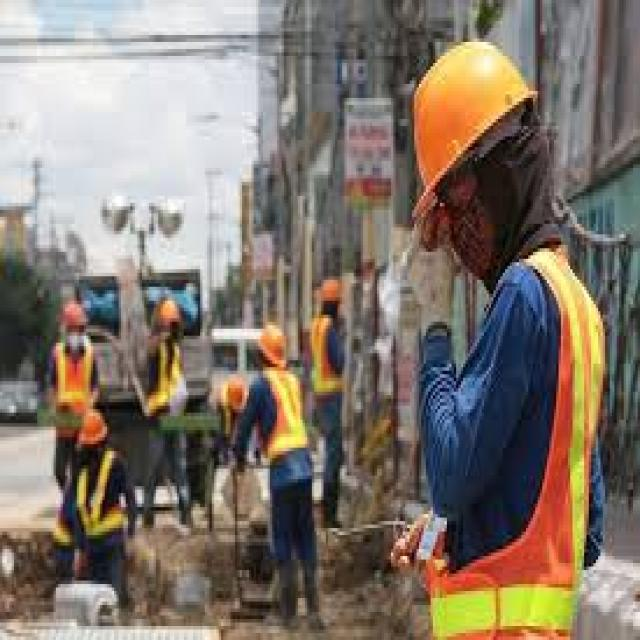Reflective-Jacket: (414, 248, 617, 636), (60, 448, 135, 563), (252, 367, 314, 476), (47, 336, 100, 444), (305, 315, 351, 416), (142, 339, 191, 430)
Safety-Helmet: (396, 35, 547, 220), (251, 314, 291, 370), (149, 290, 186, 340), (312, 270, 349, 318), (75, 406, 112, 454), (56, 290, 93, 336), (219, 370, 249, 420)
